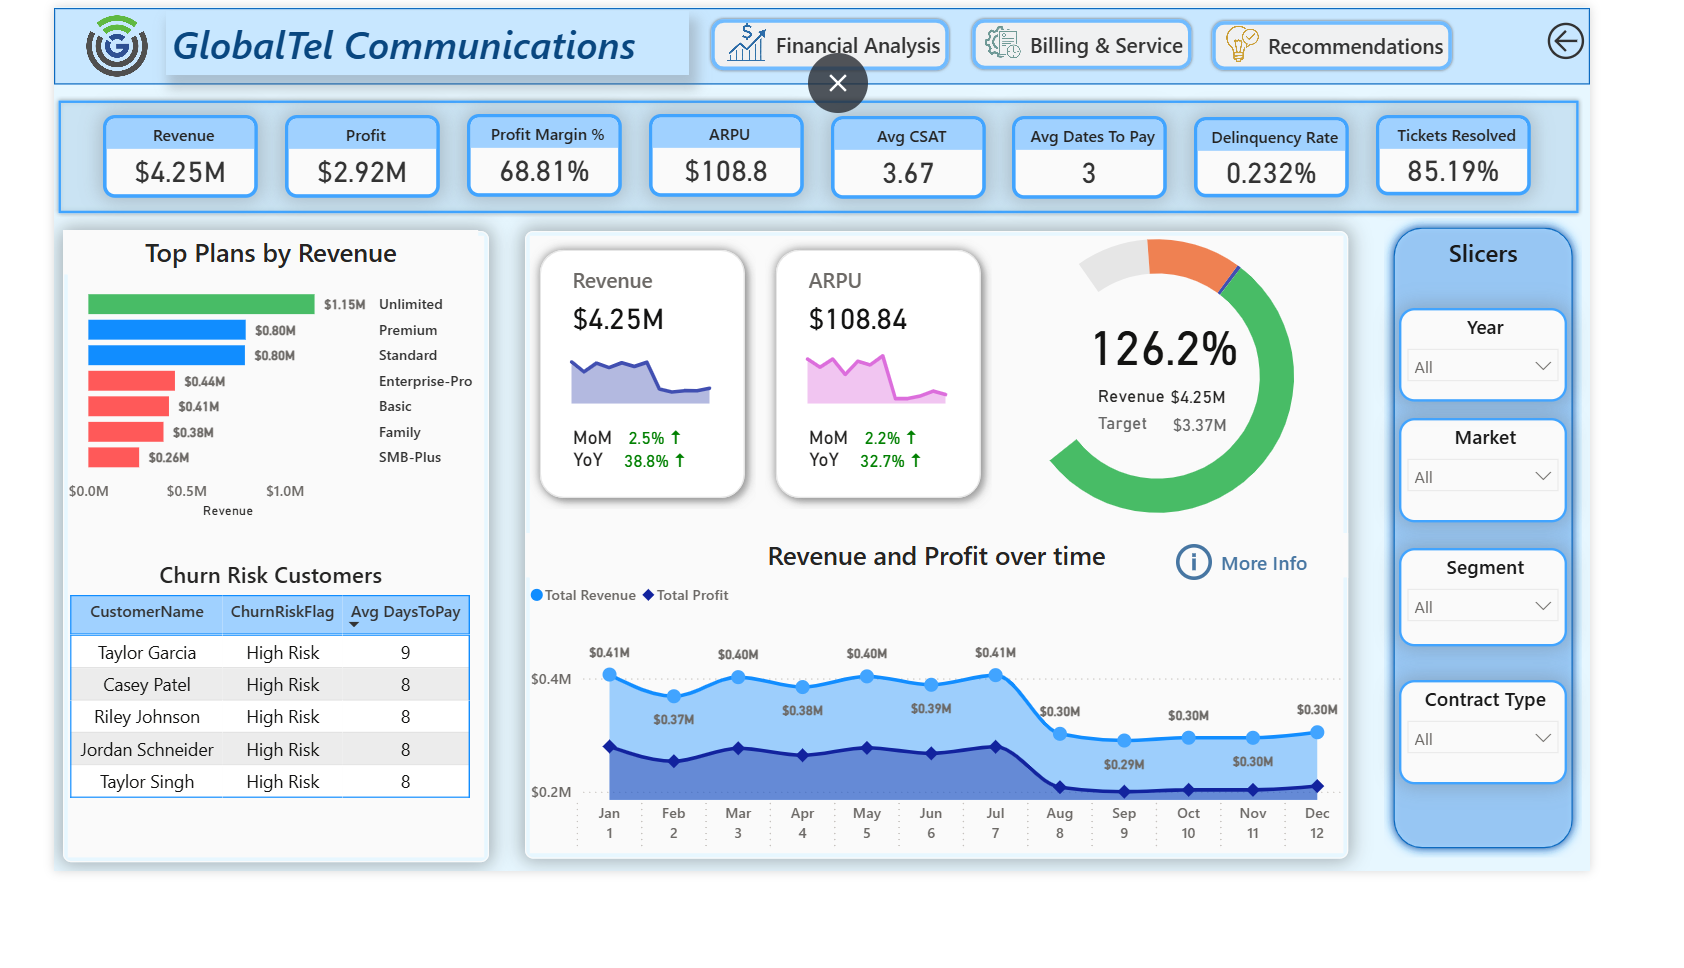

The page's visual inventory and layout, read from the dashboard file:
{"tool":"powerbi","page":{"name":"Dashboard","canvas":[1280,720],"ordinal":0},"visuals":[{"type":"shape","box":[7.5,186.2,355,526.2],"z":0},{"type":"shape","box":[592.3,192.7,188.8,224.8],"z":0,"group":"g4"},{"type":"shape","box":[396,193.1,188.8,224.8],"z":0,"group":"g3"},{"type":"shape","title":"Revenue","box":[870,315.3,60.7,22.3],"z":0,"group":"g5"},{"type":"card","fields":{"Values":["Measure Table.MoM Prof"]},"box":[671,346.3,53.7,26.7],"z":0,"group":"g1"},{"type":"card","fields":{"Values":["Measure Table.MoM Rev"]},"box":[474.7,346.7,53.7,26.7],"z":0,"group":"g2"},{"type":"cardVisual","title":"Revenue","fields":{"Data":["Measure Table.ARPU"]},"box":[611.7,183.8,168.5,120.2],"z":1000,"group":"g4"},{"type":"cardVisual","title":"Revenue","fields":{"Data":["Measure Table.Revenue"]},"box":[415.4,184.2,168.5,120.2],"z":1000,"group":"g3"},{"type":"shape","box":[392.5,186.2,686.2,522.5],"z":1000},{"type":"card","fields":{"Values":["Measure Table.YoY Prof"]},"box":[671,365.2,53.7,26.7],"z":1000,"group":"g1"},{"type":"card","fields":{"Values":["Measure Table.YoY Rev"]},"box":[474.7,365.6,53.7,26.7],"z":1000,"group":"g2"},{"type":"shape","title":"Slicers","box":[1108.7,176.1,165.3,533.2],"z":2000},{"type":"lineChart","fields":{"Category":["Calendar Table.Month"],"Y":["Measure Table.ARPU"]},"box":[602.1,272.5,186.9,63],"z":2000,"group":"g4"},{"type":"lineChart","fields":{"Category":["Calendar Table.Month"],"Y":["Measure Table.Revenue"]},"box":[405.8,272.9,186.9,63],"z":2000,"group":"g3"},{"type":"shape","title":"MoM","box":[629.3,348.5,41.7,24.5],"z":2000,"group":"g1"},{"type":"shape","title":"MoM","box":[433,348.9,41.7,24.5],"z":2000,"group":"g2"},{"type":"shape","box":[0,0.5,1280,63.8],"z":3000},{"type":"card","fields":{"Values":["Measure Table.Revenue"]},"box":[917.9,310.5,70.1,30.6],"z":3000,"group":"g5"},{"type":"group","id":"g1","title":"Group 1","box":[629.3,346.3,95.3,45.6],"z":3000,"group":"g4"},{"type":"group","id":"g2","title":"Group 1","box":[433,346.7,95.3,45.6],"z":3000,"group":"g3"},{"type":"shape","title":"YoY","box":[629.3,367.4,41.7,24.5],"z":3000,"group":"g1"},{"type":"shape","title":"YoY","box":[433,367.8,41.7,24.5],"z":3000,"group":"g2"},{"type":"shape","box":[0,74.3,1274.3,101.4],"z":4000},{"type":"card","fields":{"Values":["Measure Table.Target Revenue"]},"box":[920.2,333.4,69.4,30.9],"z":4000,"group":"g5"},{"type":"card","title":"Profit Margin %","fields":{"Values":["Measure Table.Profit Margin %"]},"box":[343.8,89,128.6,68.6],"z":5000},{"type":"shape","title":"Target","box":[870,337.6,60.7,22.3],"z":5000,"group":"g5"},{"type":"card","title":"ARPU","fields":{"Values":["Measure Table.ARPU"]},"box":[495.5,89.4,128.6,68.6],"z":6000},{"type":"card","title":"Profit","fields":{"Values":["Measure Table.Total Profit"]},"box":[192.2,89.8,128.6,68.6],"z":7000},{"type":"slicer","title":"Segment","fields":{"Values":["Telecom_Customers.Segment"]},"box":[1120.8,451.2,139.9,82],"z":8000},{"type":"slicer","title":"Market","fields":{"Values":["Telecom_Usage_Fact.Market"]},"box":[1120.8,342.6,139.9,86.9],"z":9000},{"type":"slicer","title":"Year","fields":{"Values":["Calendar Table.Year"]},"box":[1120.8,250.9,139.9,78.4],"z":10000},{"type":"actionButton","box":[544.8,7.6,203.3,47.8],"z":11000},{"type":"card","title":"Revenue","fields":{"Values":["Measure Table.Total Revenue"]},"box":[40.6,90.2,128.6,68.6],"z":12000},{"type":"card","title":"Avg Dates To Pay","fields":{"Values":["Measure Table.Avg DaysToPay"]},"box":[798.7,90.6,128.6,68.6],"z":13000},{"type":"card","title":"Delinquency Rate","fields":{"Values":["Measure Table.Delinquency_Rate"]},"box":[950.4,91.4,128.6,67.1],"z":14000},{"type":"card","title":"Avg CSAT","fields":{"Values":["Measure Table.Avg CSAT"]},"box":[647.1,91,128.6,68.6],"z":15000},{"type":"areaChart","title":"Revenue and Profit over time","fields":{"Category":["Calendar Table.Month","Calendar Table.Month Name"],"Y":["Measure Table.Total Revenue","Measure Table.Total Profit"]},"box":[392.9,438.6,685.7,271.4],"z":16000},{"type":"clusteredBarChart","title":"Top Plans by Revenue","fields":{"Category":["Telecom_Usage_Fact.Plan"],"Y":["Measure Table.Total Revenue"]},"box":[7.2,185.8,346.2,243.7],"z":17000},{"type":"tableEx","title":"Churn Risk Customers","fields":{"Values":["Telecom_Usage_Fact.CustomerName","Telecom_Customers.Churn Risk Flag","Measure Table.Avg DaysToPay"]},"box":[7.5,460,346.2,250],"z":18000},{"type":"card","title":"Tickets Resolved","fields":{"Values":["Measure Table.Tickets Resolved %"]},"box":[1102,90.4,128.6,67.1],"z":19000},{"type":"actionButton","box":[762.7,7.8,188,47],"z":20000},{"type":"actionButton","box":[962.7,8.8,205,46],"z":21000},{"type":"group","id":"g3","title":"Group 2","box":[396,184.2,196.2,233.8],"z":22000},{"type":"group","id":"g4","title":"Group 2","box":[592.3,183.8,196.2,233.8],"z":23000},{"type":"slicer","title":"Contract Type","fields":{"Values":["Telecom_Usage_Fact.ContractType"]},"box":[1120.8,561,139.9,86.9],"z":24000},{"type":"donutChart","fields":{"Y":["Gauge_Measures.04_Padding","Gauge_Measures.06_Overflow","Gauge_Measures.03_Goal","Gauge_Measures.02_Goal-Progress","Gauge_Measures.01_Sales_Progress","Gauge_Measures.05_Empty"]},"box":[742.5,165,353.8,285],"z":25000},{"type":"cardVisual","fields":{"Data":["Gauge_Measures.01_Sales_Progress"]},"box":[845,234.2,207.5,91.2],"z":26000},{"type":"group","id":"g5","title":"Group 3","box":[870,310.5,118.8,53.8],"z":27000},{"type":"image","box":[514.8,-0.1,116.7,63.3],"z":28000},{"type":"image","box":[941.7,2.8,76,63],"z":29000},{"type":"image","box":[762.7,2.8,56,58],"z":30000},{"type":"actionButton","box":[930,442.9,118.6,40],"z":31000},{"type":"textbox","box":[93.4,3.6,436.2,53.1],"z":32000},{"type":"actionButton","box":[1173.8,7.7,106.2,41.5],"z":33000},{"type":"image","box":[0,0,104.7,65.9],"z":34001}]}

Visuals, with their boxes in screenshot pixels (x1, y1, x2, y2), scaled from the page's 1280x720 canvas onto the 1684x968 screenshot:
shape: box(10, 250, 477, 958)
shape: box(779, 259, 1028, 561)
shape: box(521, 260, 769, 562)
"Revenue" shape: box(1145, 424, 1224, 454)
card - Measure Table.MoM Prof: box(883, 466, 953, 501)
card - Measure Table.MoM Rev: box(625, 466, 695, 502)
"Revenue" cardVisual: box(805, 247, 1026, 409)
"Revenue" cardVisual: box(547, 248, 768, 409)
shape: box(516, 250, 1419, 953)
card - Measure Table.YoY Prof: box(883, 491, 953, 527)
card - Measure Table.YoY Rev: box(625, 492, 695, 527)
"Slicers" shape: box(1459, 237, 1676, 954)
lineChart - Calendar Table.Month x Measure Table.ARPU: box(792, 366, 1038, 451)
lineChart - Calendar Table.Month x Measure Table.Revenue: box(534, 367, 780, 452)
"MoM" shape: box(828, 469, 883, 501)
"MoM" shape: box(570, 469, 625, 502)
shape: box(0, 1, 1683, 86)
card - Measure Table.Revenue: box(1208, 417, 1300, 459)
"Group 1" group: box(828, 466, 953, 527)
"Group 1" group: box(570, 466, 695, 527)
"YoY" shape: box(828, 494, 883, 527)
"YoY" shape: box(570, 494, 625, 527)
shape: box(0, 100, 1677, 236)
card - Measure Table.Target Revenue: box(1211, 448, 1302, 490)
"Profit Margin %" card: box(452, 120, 622, 212)
"Target" shape: box(1145, 454, 1224, 484)
"ARPU" card: box(652, 120, 821, 212)
"Profit" card: box(253, 121, 422, 213)
"Segment" slicer: box(1475, 607, 1659, 717)
"Market" slicer: box(1475, 461, 1659, 577)
"Year" slicer: box(1475, 337, 1659, 443)
actionButton: box(717, 10, 984, 74)
"Revenue" card: box(53, 121, 223, 213)
"Avg Dates To Pay" card: box(1051, 122, 1220, 214)
"Delinquency Rate" card: box(1250, 123, 1420, 213)
"Avg CSAT" card: box(851, 122, 1021, 215)
"Revenue and Profit over time" areaChart: box(517, 590, 1419, 955)
"Top Plans by Revenue" clusteredBarChart: box(9, 250, 465, 577)
"Churn Risk Customers" tableEx: box(10, 618, 465, 955)
"Tickets Resolved" card: box(1450, 122, 1619, 212)
actionButton: box(1003, 10, 1251, 74)
actionButton: box(1267, 12, 1536, 74)
"Group 2" group: box(521, 248, 779, 562)
"Group 2" group: box(779, 247, 1037, 561)
"Contract Type" slicer: box(1475, 754, 1659, 871)
donutChart - Gauge_Measures.04_Padding x Gauge_Measures.06_Overflow: box(977, 222, 1442, 605)
cardVisual - Gauge_Measures.01_Sales_Progress: box(1112, 315, 1385, 437)
"Group 3" group: box(1145, 417, 1301, 490)
image: box(677, 0, 831, 85)
image: box(1239, 4, 1339, 88)
image: box(1003, 4, 1077, 82)
actionButton: box(1224, 595, 1380, 649)
textbox: box(123, 5, 697, 76)
actionButton: box(1544, 10, 1683, 66)
image: box(0, 0, 138, 89)
